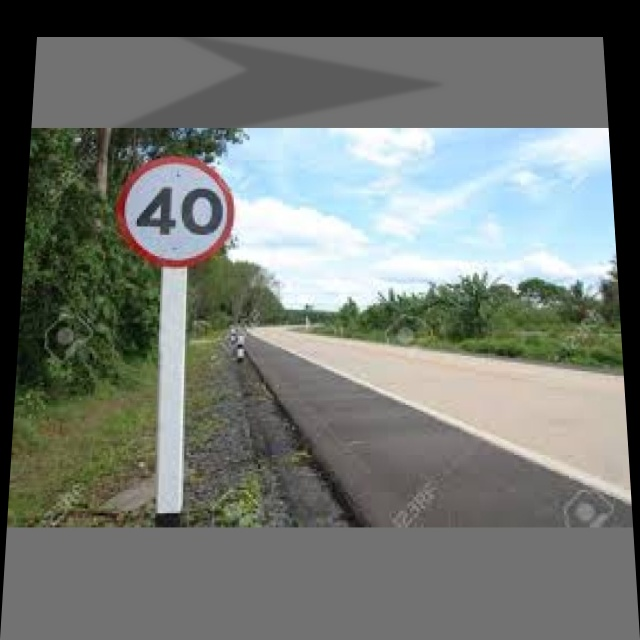Speed_Limit_40: (118, 150, 234, 266)
